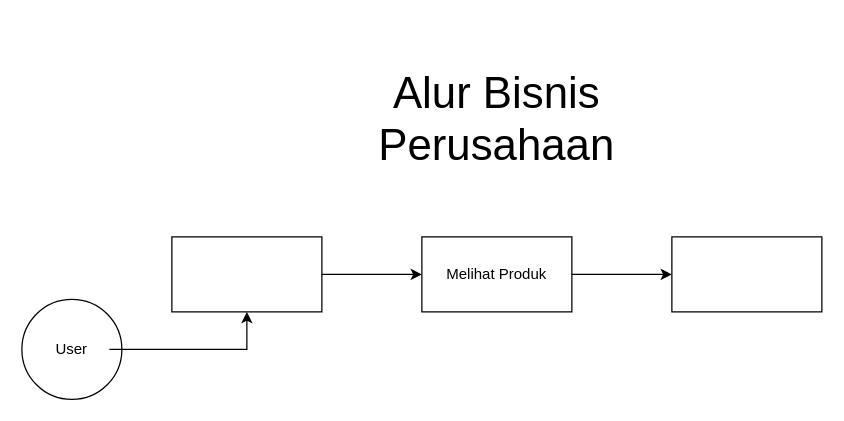
This 844x421 diagram has some shape labels left out. The centre of each missing label's shape, as x and y in pixels:
"Memesan Produk" goes at (x=746, y=274).
"Mengunjungi toko" goes at (x=246, y=274).
